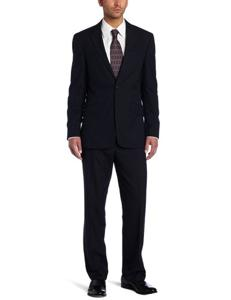F_M_suit jacket: (64, 24, 160, 143)
F_dress pants: (80, 136, 148, 275)
F_dress shoes: (119, 270, 156, 295), (85, 278, 108, 295)
F_tie: (107, 28, 124, 74)
